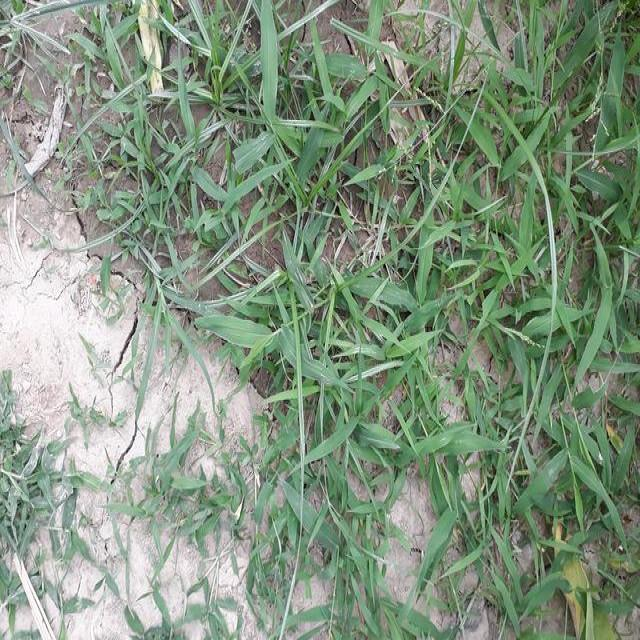weed: (492, 43, 640, 551), (396, 54, 626, 366), (228, 274, 490, 455), (222, 40, 362, 194)
